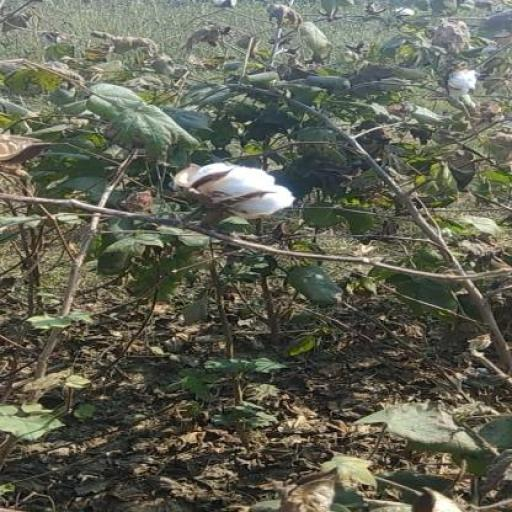cotton_ready: (148, 155, 318, 254)
